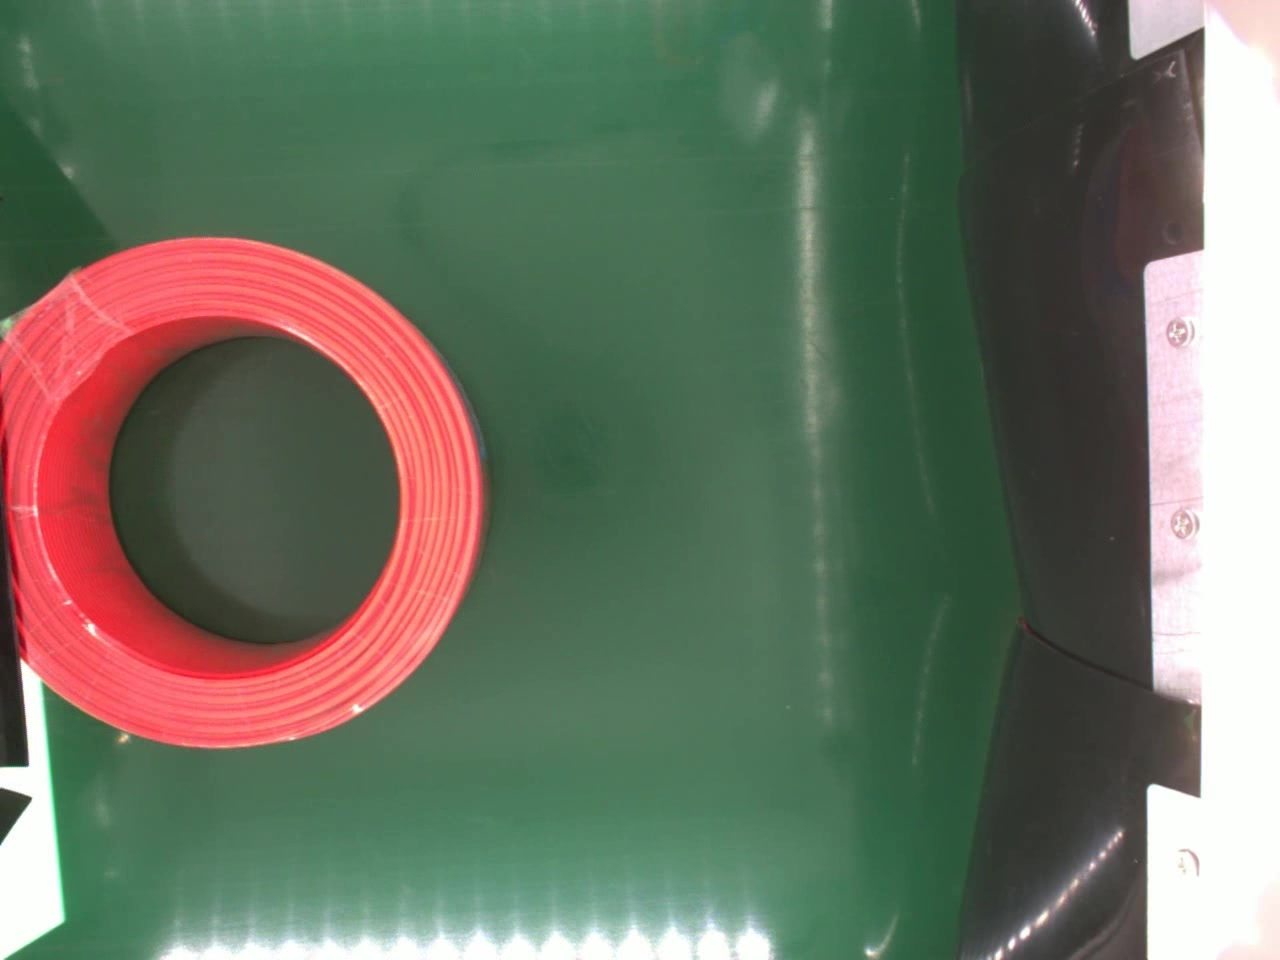red: (0, 233, 490, 757)
